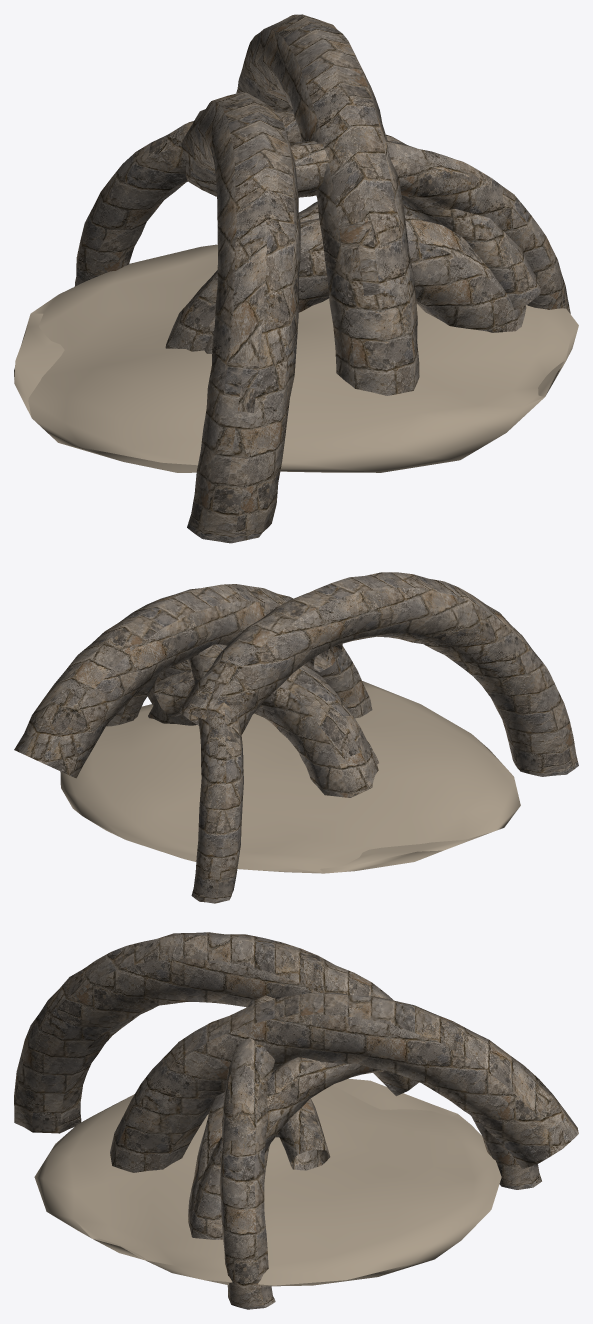
Rendered from petrified-roots-v01.glb.
3 renders of one model, top to bottom at view 1: azimuth 30°, elevation 25°; view 2: azimuth 150°, elevation 25°; view 3: azimuth 270°, elevation 25°, orthographic. The views are drawn at different scales.
Visible parts, largest first — view 1: petrified-roots; view 2: petrified-roots; view 3: petrified-roots.
Boxes of the visible parts, box(x1,y1,x2,y2) form: petrified-roots: box(14, 14, 578, 543); petrified-roots: box(14, 572, 578, 903); petrified-roots: box(14, 932, 578, 1309).
Bounding box in the file's own units: 2.2 × 1.13 × 2.41.
Materials: 2 (2 with a texture image).
